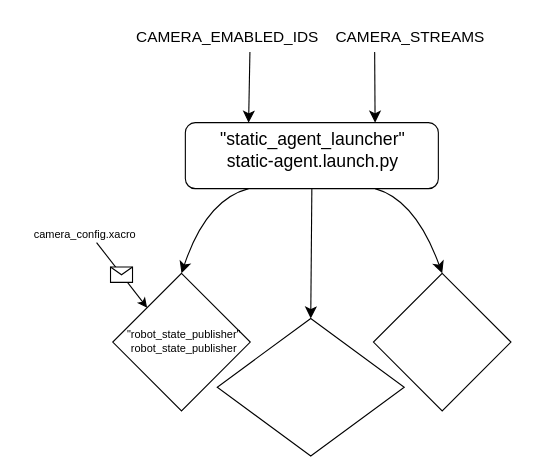
This 545x475 diagram has some shape labels left out. Each missing label, with the centre of its shape:
"ros_gz_bridge" parameter_bridge: the point at 310,386
"ros_gz_sim" create: the point at 441,341
